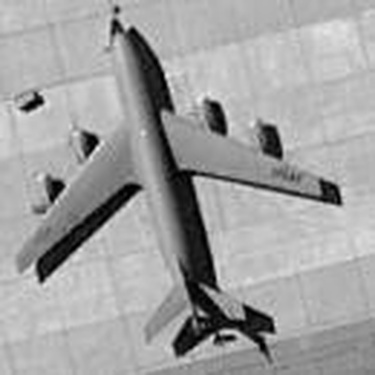airplane: (6, 27, 342, 356)
